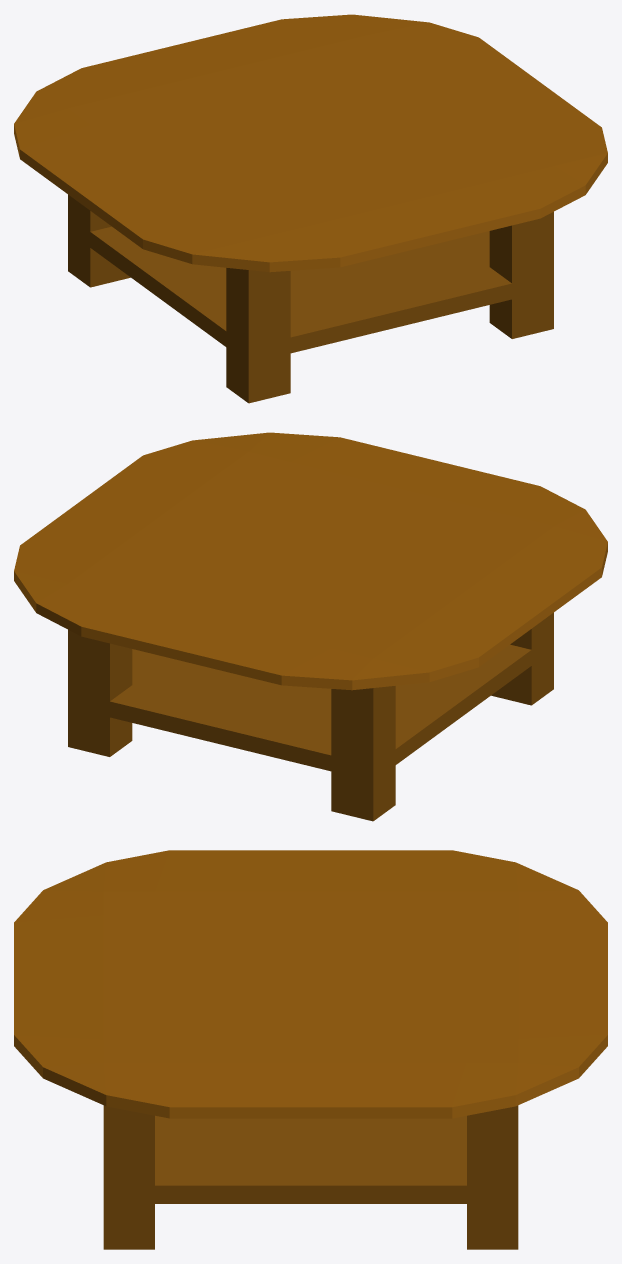
File: Table.fbx
3 renders of one model, top to bottom at view 1: azimuth 30°, elevation 25°; view 2: azimuth 150°, elevation 25°; view 3: azimuth 270°, elevation 25°, orthographic. The views are drawn at different scales.
Parts seen in each view (by area): view 1: Cube.068; view 2: Cube.068; view 3: Cube.068.
Part boxes in pixels (x1=…): Cube.068: x1=14, y1=14, x2=607, y2=403; Cube.068: x1=14, y1=432, x2=607, y2=821; Cube.068: x1=14, y1=850, x2=607, y2=1249.
Size of the model in its own units: 152 by 51.67 by 149.
